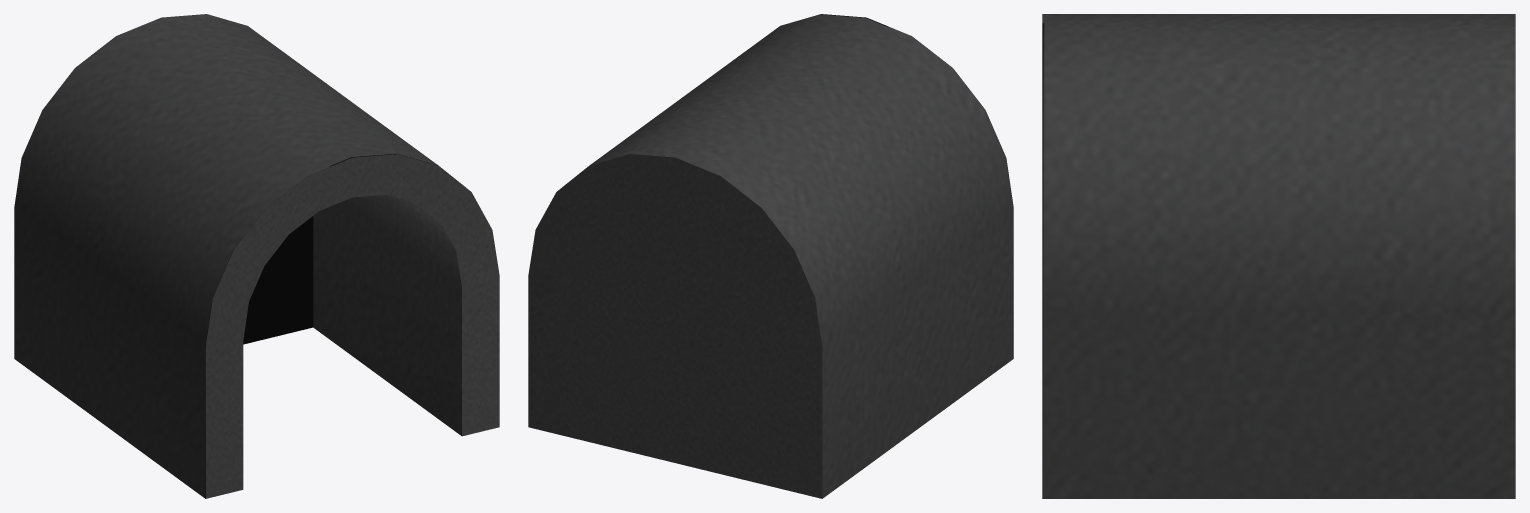
Rendered from PotatoHillsTunnel.fbx.
The picture shows the model from 3 angles, left to right: view 1: azimuth 30°, elevation 25°; view 2: azimuth 150°, elevation 25°; view 3: azimuth 270°, elevation 25°; orthographic projection. The views are drawn at different scales.
Parts seen in each view (by area): view 1: Tunnel; view 2: Tunnel; view 3: Tunnel.
Part boxes in pixels (x1,y1,x2,y2): Tunnel: [14, 14, 499, 498]; Tunnel: [528, 14, 1013, 498]; Tunnel: [1042, 14, 1515, 498].
Bounding box in the file's own units: 63.89 × 63.45 × 72.
1 material, 1 textured.
